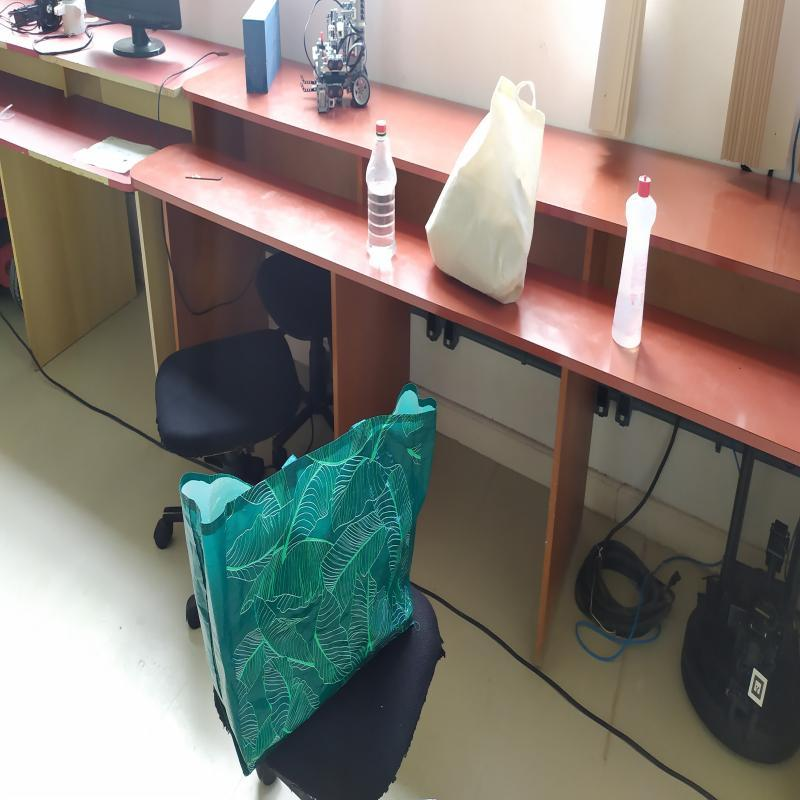Bag: (178, 377, 438, 785), (424, 74, 548, 310)
